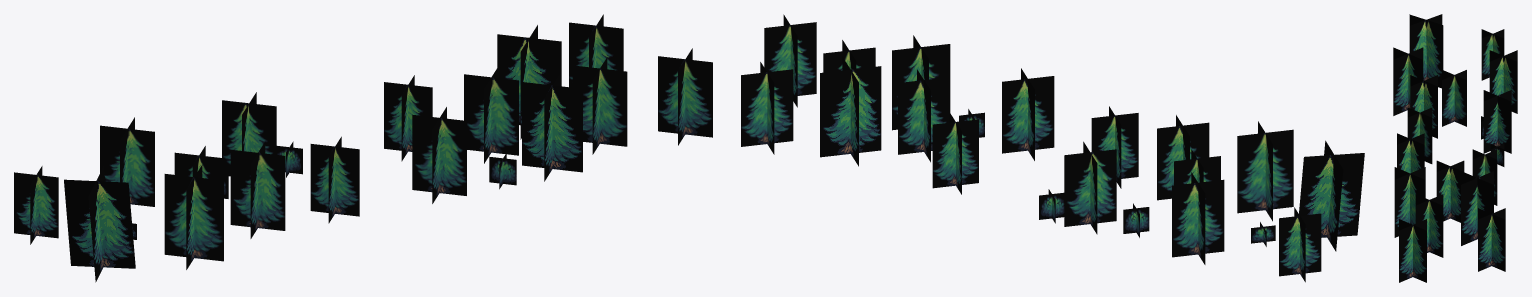
The model's file is Props2.glb.
3 renders of one model, left to right at view 1: azimuth 30°, elevation 25°; view 2: azimuth 150°, elevation 25°; view 3: azimuth 270°, elevation 25°, orthographic. The views are drawn at different scales.
Parts seen in each view (by area): view 1: Props2; view 2: Props2; view 3: Props2.
Boxes of the visible parts, box(x1,y1,x2,y2) form: Props2: box(14, 14, 712, 282); Props2: box(741, 14, 1364, 282); Props2: box(1393, 14, 1517, 282).
Size of the model in its own units: 7.7 by 1.09 by 1.92.
1 material, 1 textured.
